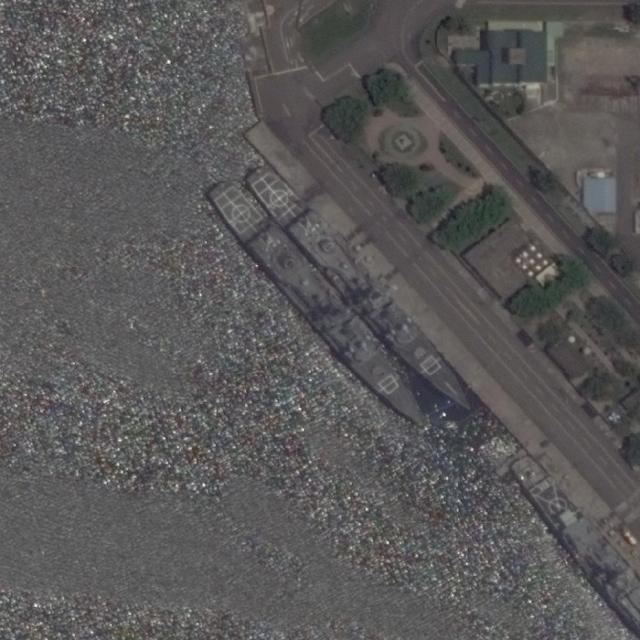Frigate: (204, 169, 439, 445), (241, 158, 484, 423)
